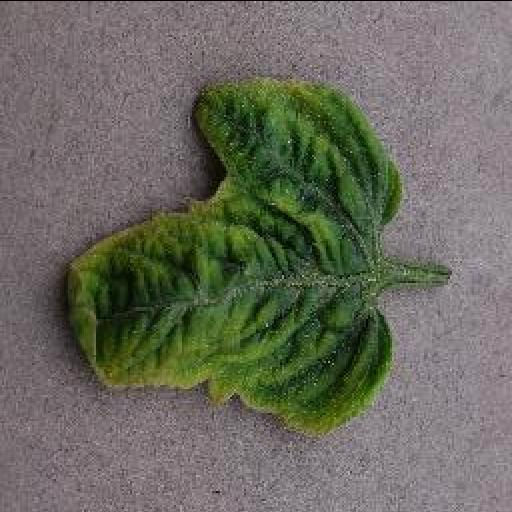disease_tomato: (68, 72, 402, 433)
